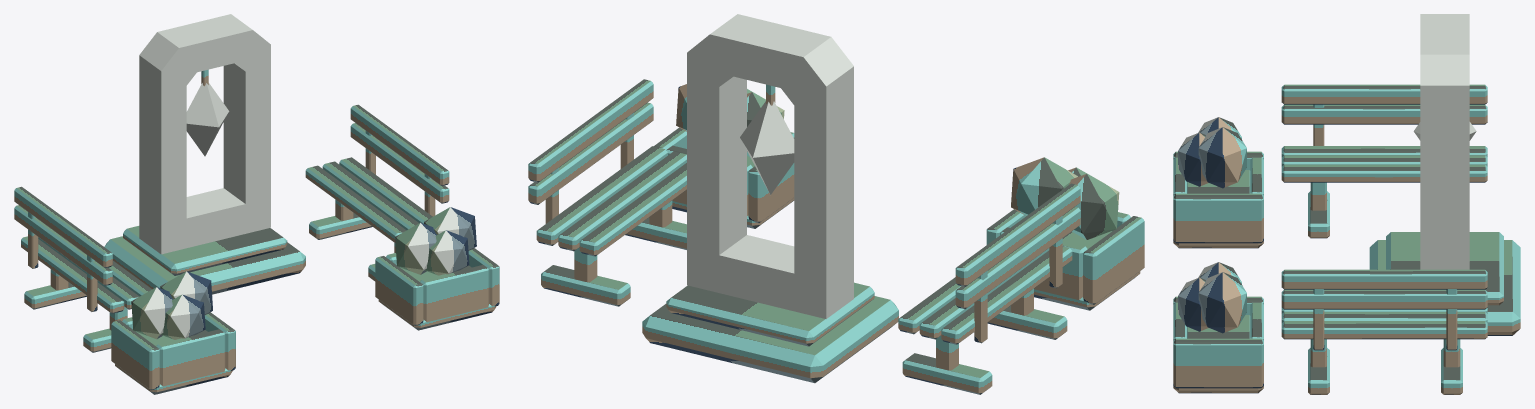
The model's file is campus_civic_decor_v01.glb.
3 renders of one model, left to right at view 1: azimuth 30°, elevation 25°; view 2: azimuth 150°, elevation 25°; view 3: azimuth 270°, elevation 25°, orthographic. The views are drawn at different scales.
Parts seen in each view (by area): view 1: campus_civic_decor; view 2: campus_civic_decor; view 3: campus_civic_decor.
Part boxes in pixels (x1=…): campus_civic_decor: x1=14, y1=14, x2=499, y2=394; campus_civic_decor: x1=528, y1=14, x2=1144, y2=394; campus_civic_decor: x1=1173, y1=14, x2=1520, y2=394.
Bounding box in the file's own units: 3.32 × 2.14 × 2.53.
Materials: 1 (1 with a texture image).
